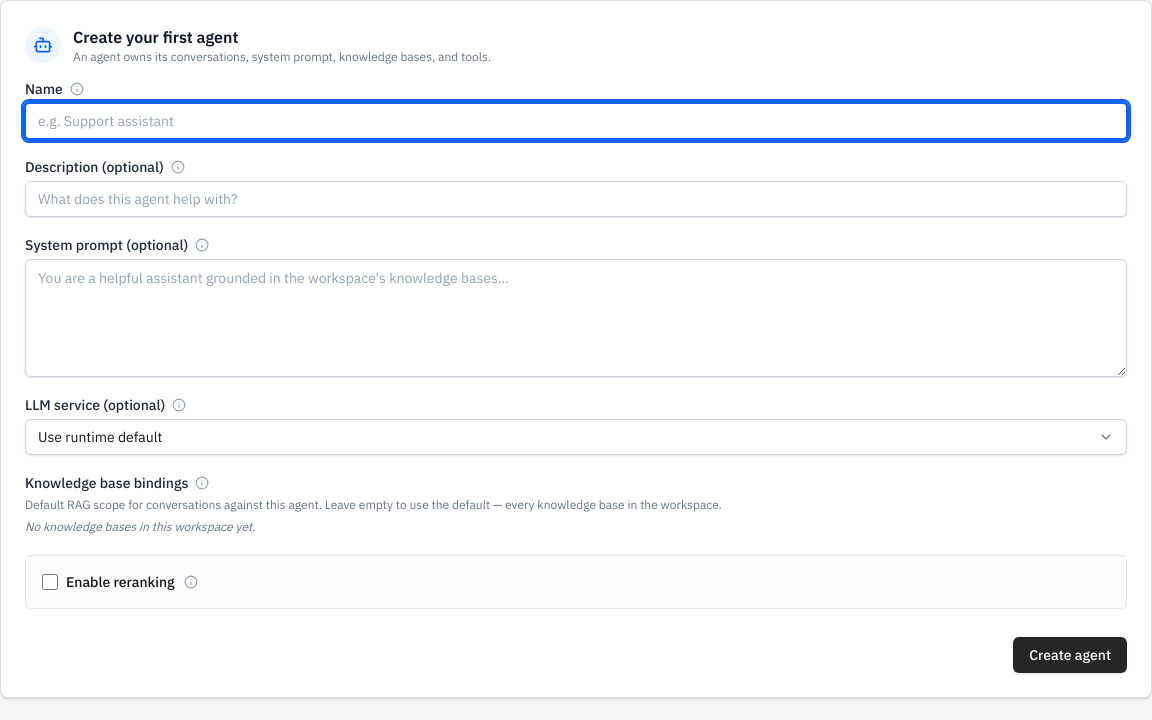
Test case: CreateFirstAgent (custom form) › blocks submit and surfaces a validation error when the name is blank
The image size is (1152, 720).
Step 1. Click the button "Create agent" → click(1070, 655), box [1013,637,1127,673]
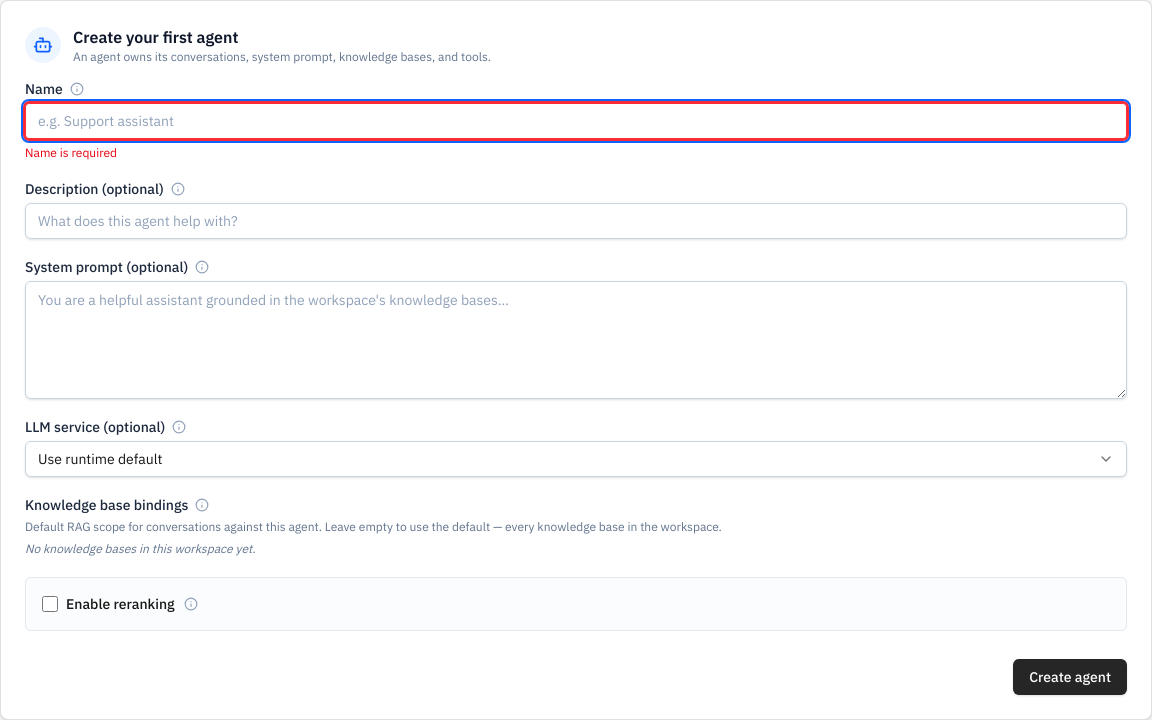
Expected: the text "Name is required" is shown, [25,145,117,160]
